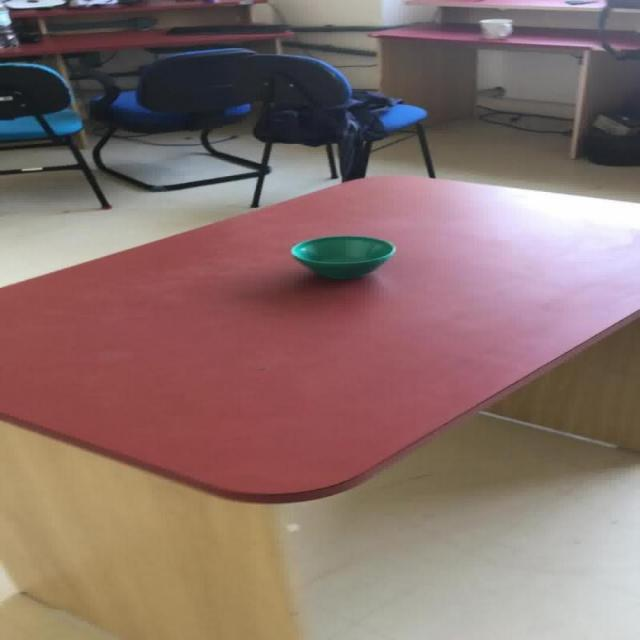Bowl: (289, 234, 395, 280), (477, 18, 514, 39)
